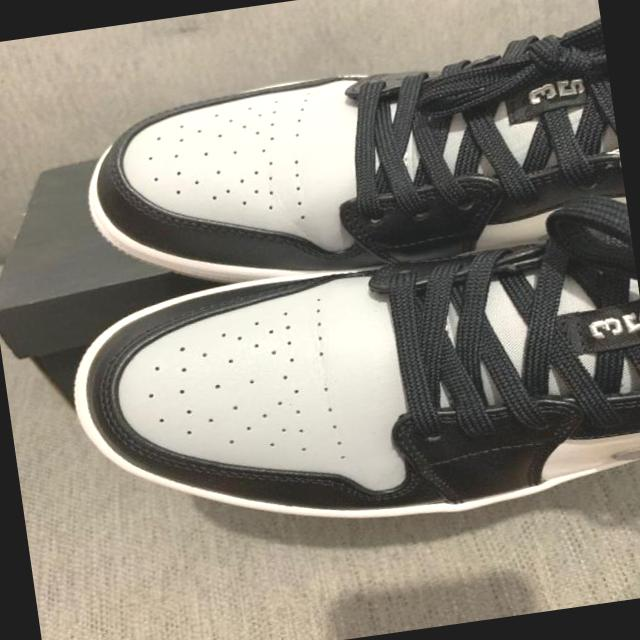nike_fake_jordan: (56, 227, 640, 562), (70, 31, 631, 308)
